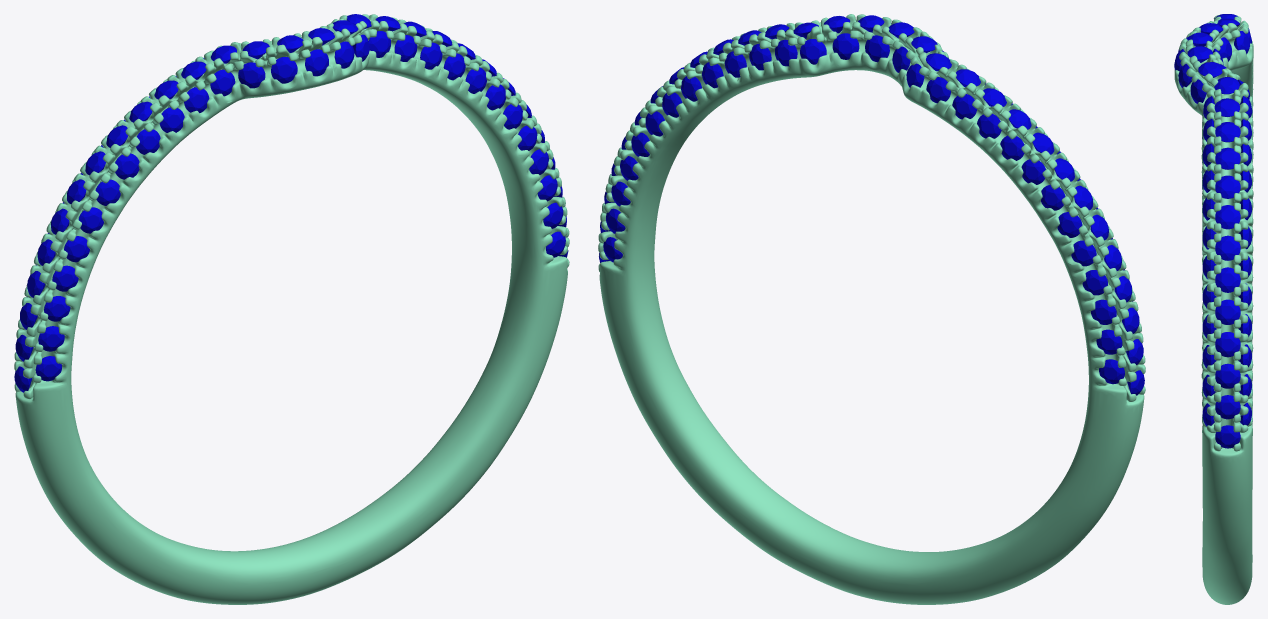
3 views of the same model, side by side, from view 1: azimuth 30°, elevation 25°; view 2: azimuth 150°, elevation 25°; view 3: azimuth 270°, elevation 25° (orthographic). The views are drawn at different scales.
Parts seen in each view (by area): view 1: Metal03; view 2: Metal03; view 3: Metal03, Diamond_Band.069, Diamond_Band.070, Diamond_Band.068, Diamond_Band.067, Diamond_Band.071, Diamond_Band.072, Diamond_Band.066, Diamond_Band.073, Diamond_Band.065, Diamond_Band.074, Diamond_Band.075 (+31 smaller).
Boxes of the visible parts, x1,y1,x2,y2 form: Metal03: (14, 14, 569, 604); Metal03: (598, 14, 1145, 604); Metal03: (1174, 15, 1253, 604); Diamond_Band.069: (1215, 299, 1240, 324); Diamond_Band.070: (1215, 267, 1240, 292); Diamond_Band.068: (1215, 332, 1240, 357); Diamond_Band.067: (1215, 363, 1240, 388); Diamond_Band.071: (1215, 235, 1240, 260); Diamond_Band.072: (1215, 205, 1240, 229); Diamond_Band.066: (1215, 395, 1240, 419); Diamond_Band.073: (1215, 175, 1240, 198); Diamond_Band.065: (1215, 425, 1240, 448); Diamond_Band.074: (1215, 147, 1240, 169); Diamond_Band.075: (1215, 122, 1240, 142).
Bounding box in the file's own units: 20.84 × 20.86 × 2.8.
